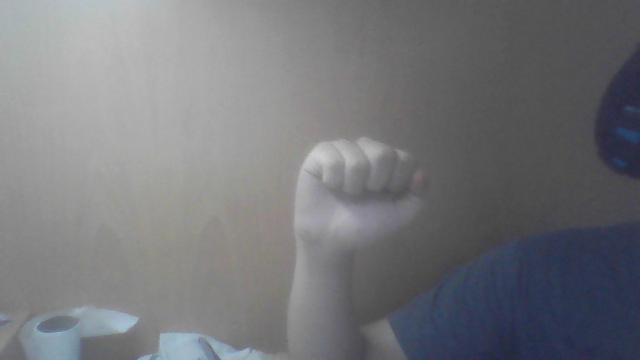forward: (293, 135, 427, 253)
